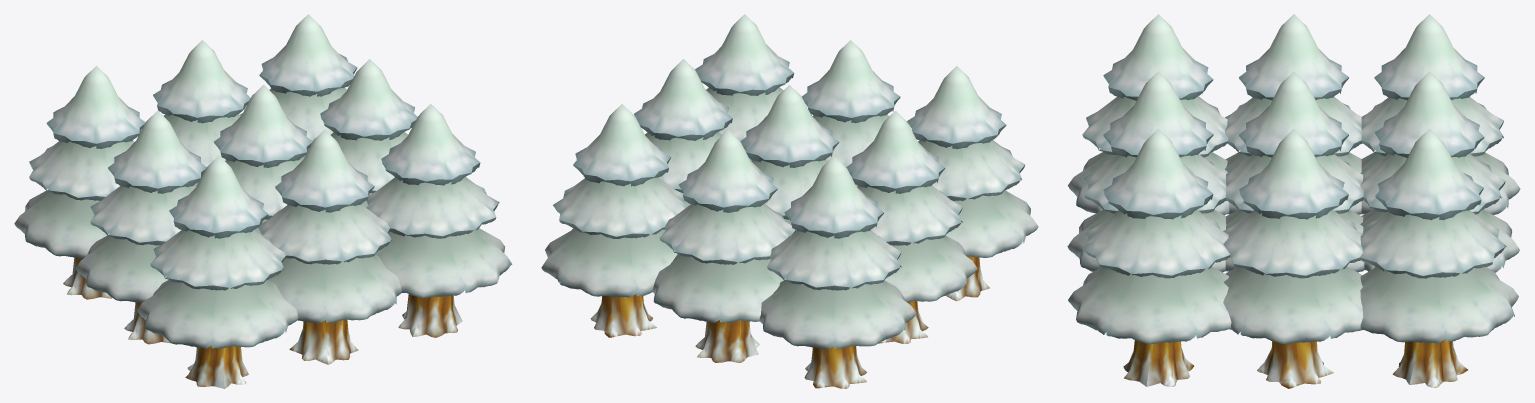
The model's file is Tree 7 - snow.fbx.
3 views of the same model, side by side, from view 1: azimuth 30°, elevation 25°; view 2: azimuth 150°, elevation 25°; view 3: azimuth 270°, elevation 25° (orthographic). The views are drawn at different scales.
Parts seen in each view (by area): view 1: tree7_snow; view 2: tree7_snow; view 3: tree7_snow.
Part boxes in pixels (x1,y1,x2,y2): tree7_snow: (14,14,512,388); tree7_snow: (541,14,1038,388); tree7_snow: (1067,14,1520,388).
Size of the model in its own units: 3.34 by 1.99 by 3.34.
